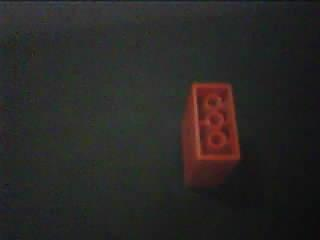lego: (179, 80, 241, 188)
